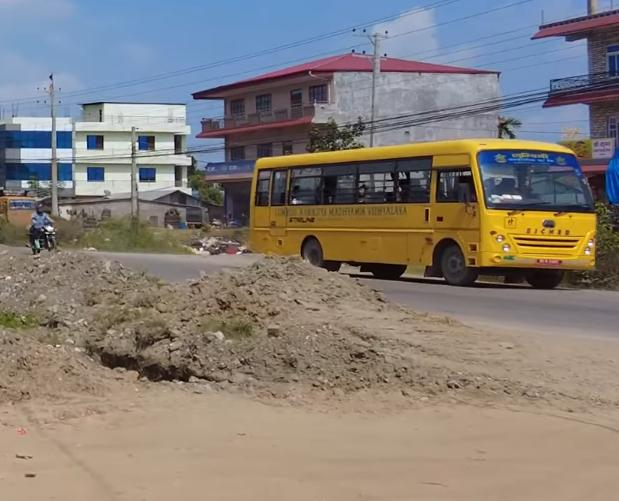bike: (26, 218, 61, 254)
school_bus: (244, 134, 603, 301)
